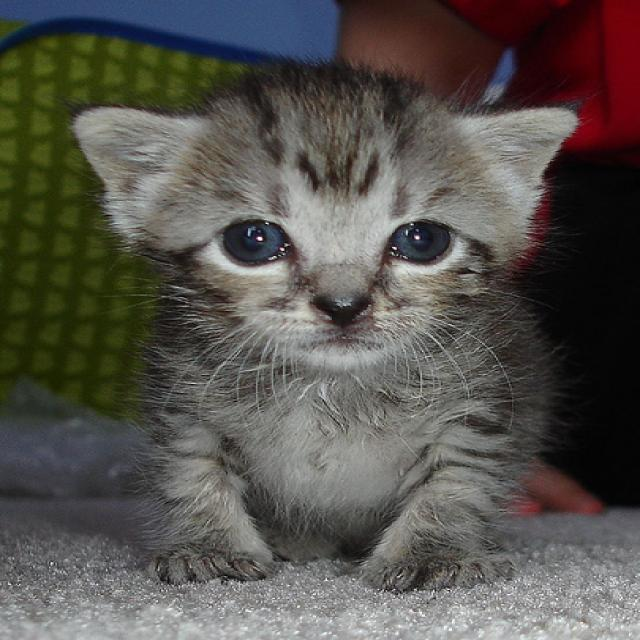left eye: (386, 218, 454, 264)
